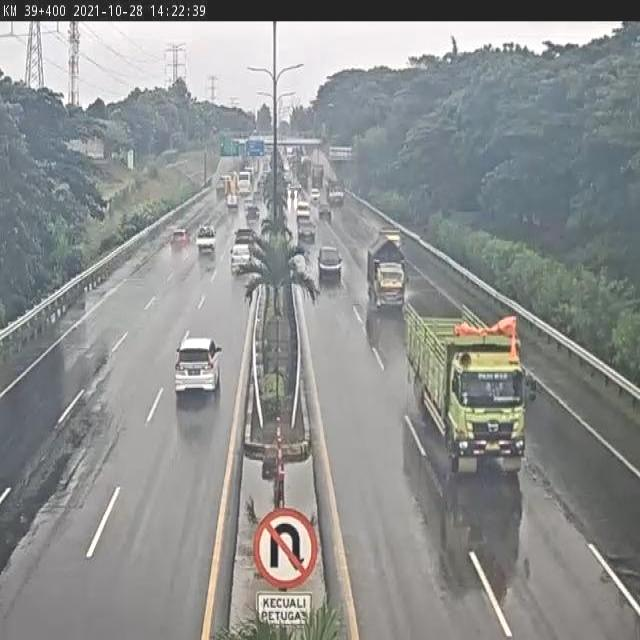Bus: (235, 170, 252, 197)
Car: (172, 336, 222, 398), (318, 244, 343, 282), (297, 218, 316, 242)
Truck: (406, 301, 540, 479), (365, 232, 407, 310), (195, 224, 218, 254), (327, 176, 347, 207)
